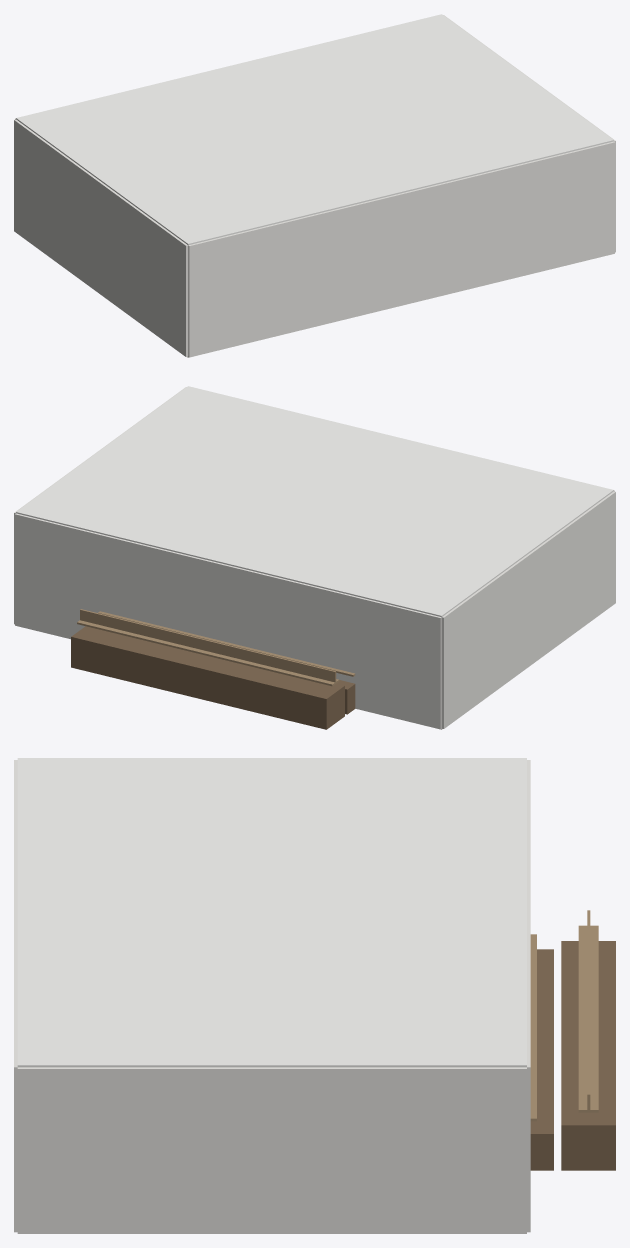
The model's file is university.glb.
The picture shows the model from 3 angles, top to bottom: view 1: azimuth 30°, elevation 25°; view 2: azimuth 150°, elevation 25°; view 3: azimuth 270°, elevation 25°; orthographic projection. The views are drawn at different scales.
Visible parts, largest first — view 1: ceil, wall_front, wall_left; view 2: ceil, wall_back, wall_left, step_5, back_5, bench_5, bench_4; view 3: ceil, wall_right, step_5, step_4, bench_5, wall_back, wall_front, bench_4, back_5.
Boxes of the visible parts, x1,y1,x2,y2 form: ceil: (16, 14, 613, 245); wall_front: (188, 141, 614, 357); wall_left: (14, 119, 188, 356); ceil: (16, 386, 613, 617); wall_back: (15, 513, 441, 729); wall_left: (441, 491, 615, 728); step_5: (71, 626, 344, 729); back_5: (80, 609, 336, 682); bench_5: (77, 620, 339, 686); bench_4: (98, 611, 355, 676); ceil: (17, 758, 526, 1067); wall_right: (17, 1067, 526, 1233); step_5: (561, 941, 615, 1170); step_4: (530, 949, 553, 1170); bench_5: (578, 925, 598, 1112); wall_back: (527, 760, 530, 1232); wall_front: (14, 760, 17, 1232); bench_4: (530, 934, 536, 1121); back_5: (587, 910, 590, 1110).
Size of the model in its own units: 20.2 by 5.11 by 16.55.
